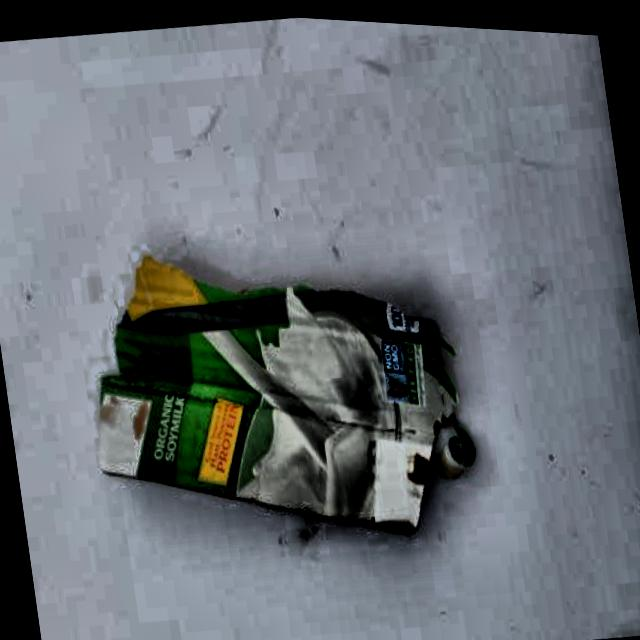Cardbox: (59, 202, 494, 601)
